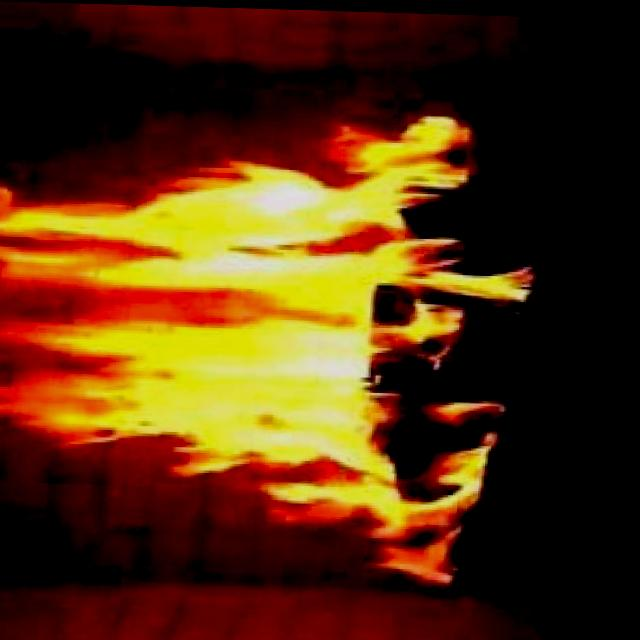Fire: (0, 104, 543, 588)
